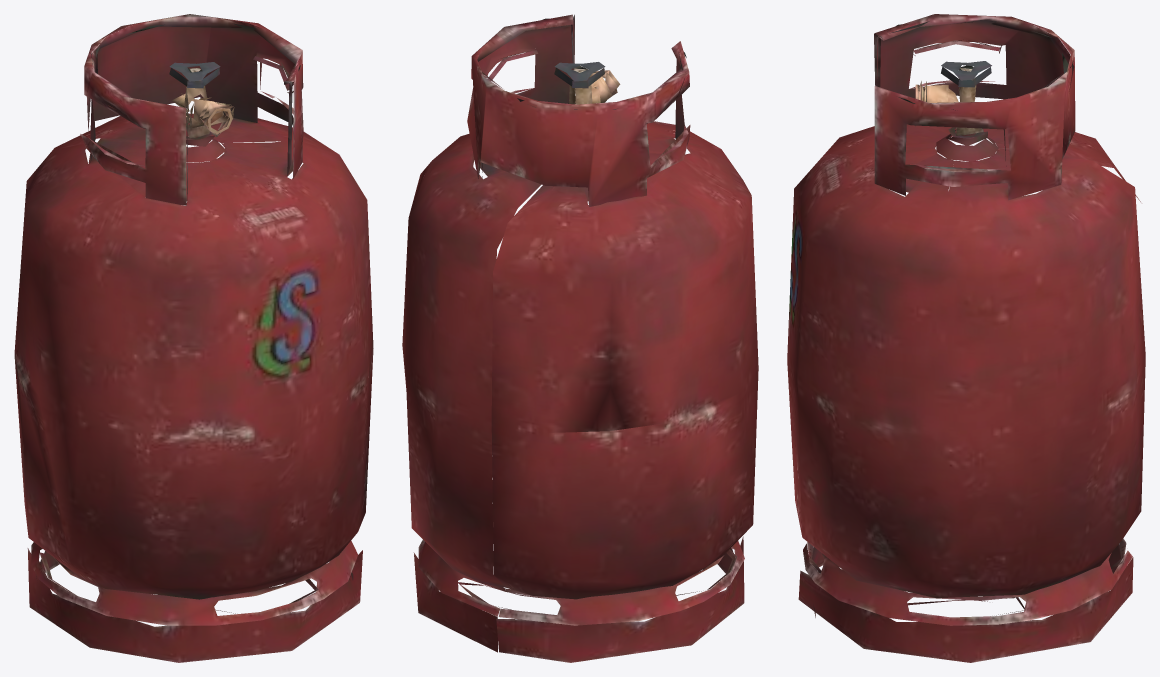
Rendered from propane.glb.
3 views of the same model, side by side, from view 1: azimuth 30°, elevation 25°; view 2: azimuth 150°, elevation 25°; view 3: azimuth 270°, elevation 25° (orthographic).
Parts seen in each view (by area): view 1: propane_tank; view 2: propane_tank; view 3: propane_tank.
Part boxes in pixels (bbox=[...]): propane_tank: bbox=[14, 14, 373, 662]; propane_tank: bbox=[402, 14, 758, 662]; propane_tank: bbox=[787, 14, 1145, 662].
Size of the model in its own units: 0.3404 by 0.5538 by 0.337.
Materials: 1 (1 with a texture image).
